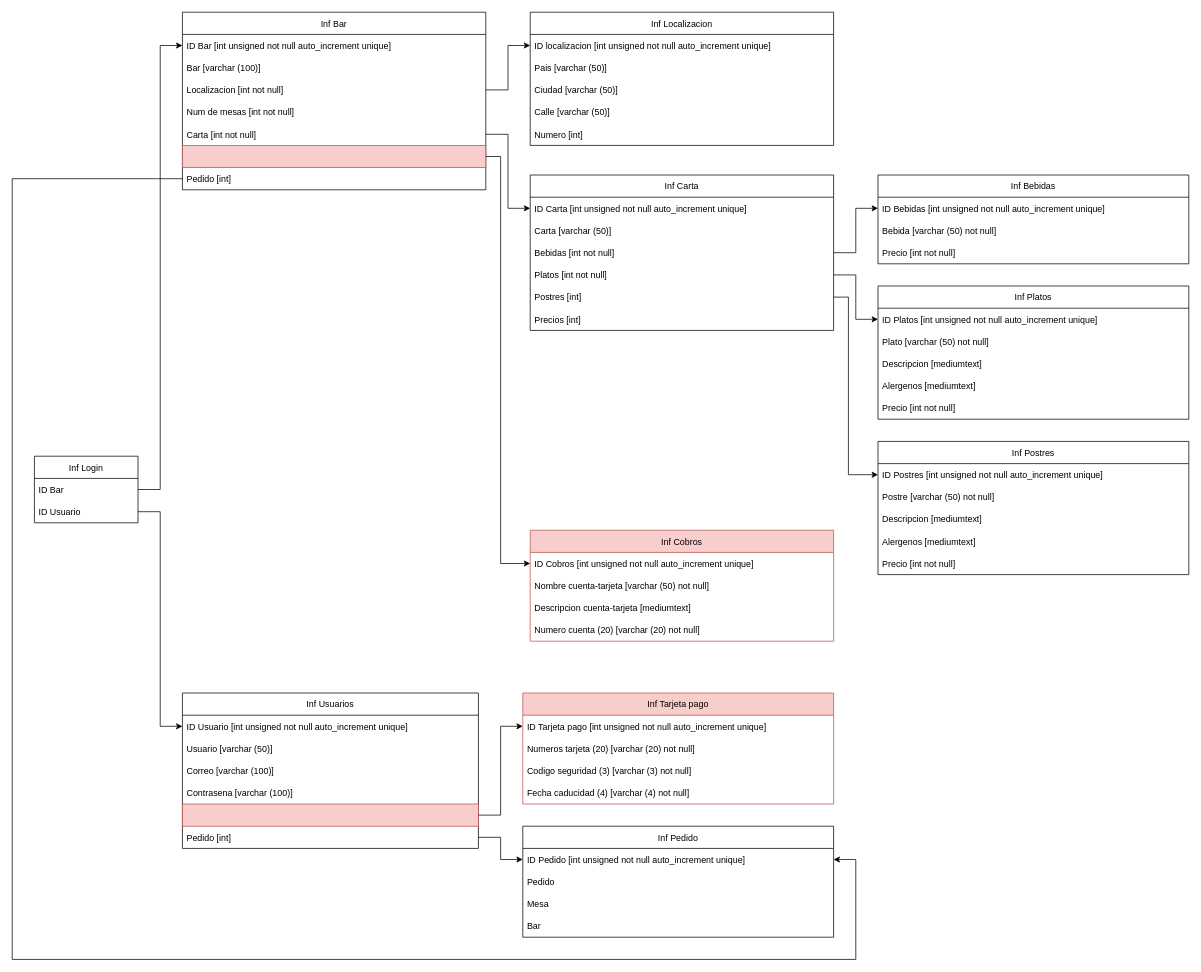
Some shapes in this 1201 by 972 pixel diagram are drawn without their labels. Here are the shapes that lost their labels. From the top down, the centre of each, then its label:
(334,156): Cobros [int not null]
(330,814): Tarjeta pago [int not null]
